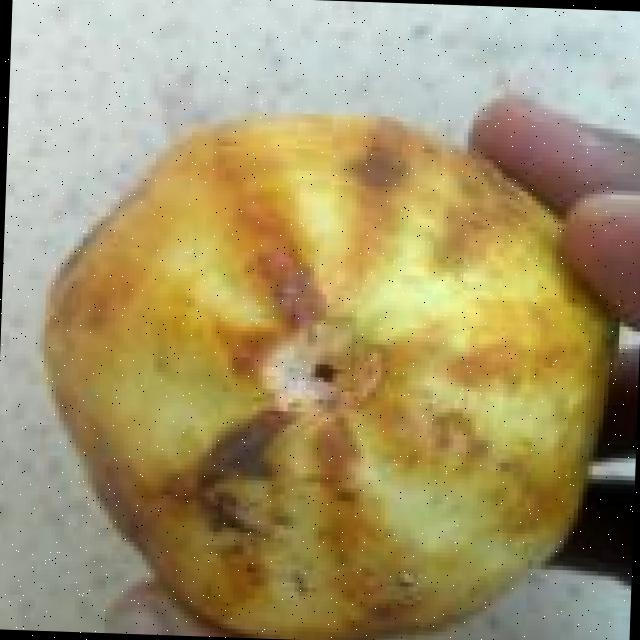Bad_Guava 0 day: (47, 115, 609, 640)
